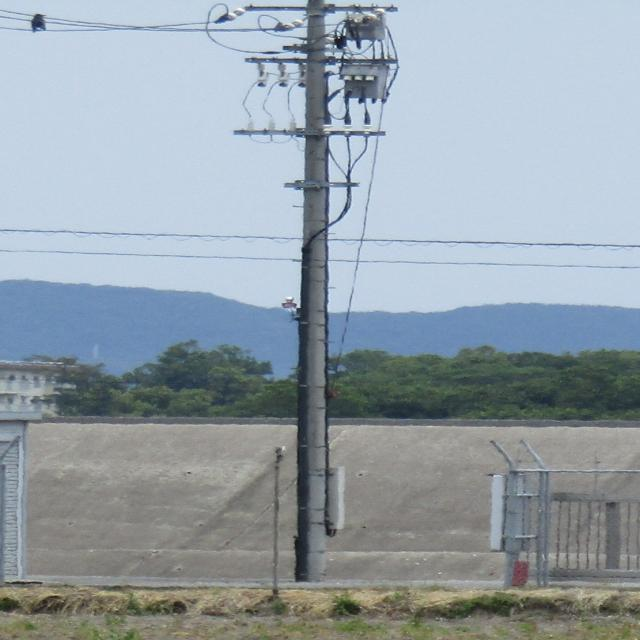pole: (218, 3, 410, 599)
